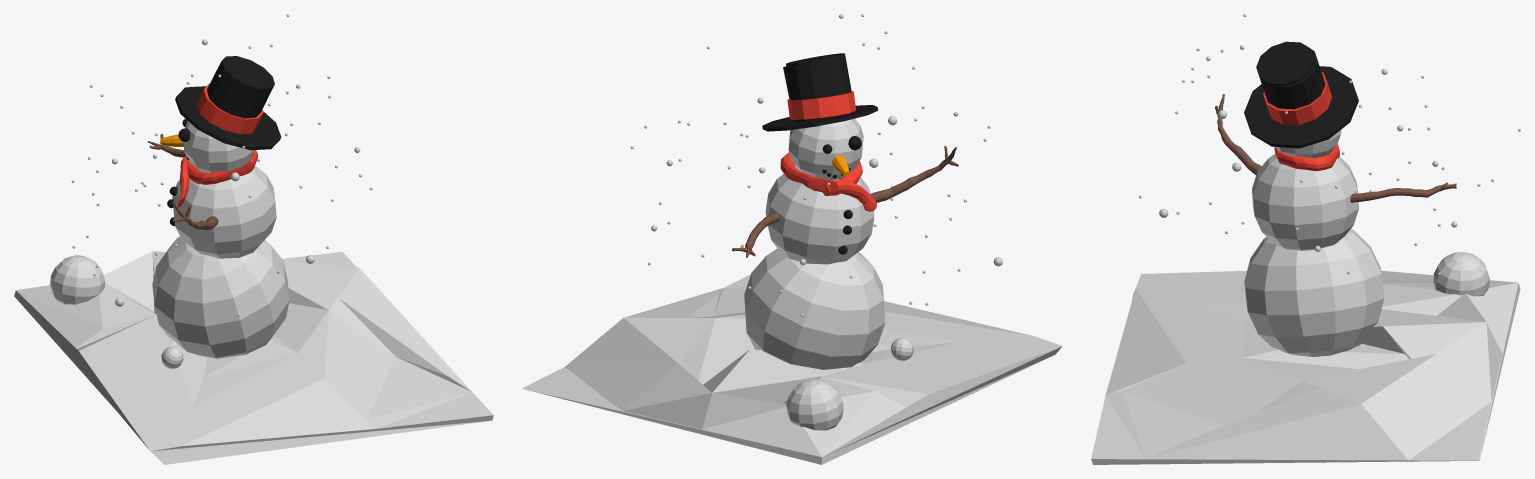
The model's file is Snowman Scene.glb.
3 renders of one model, left to right at view 1: azimuth 30°, elevation 25°; view 2: azimuth 150°, elevation 25°; view 3: azimuth 270°, elevation 25°, orthographic. The views are drawn at different scales.
Visible parts, largest first — view 1: group1273076652, group743139459, group1942126226; view 2: group1273076652, group743139459, group1942126226; view 3: group1273076652, group743139459, group1942126226.
Boxes of the visible parts, bbox=[...] form: group1273076652: bbox=[14, 251, 493, 464]; group743139459: bbox=[147, 56, 289, 358]; group1942126226: bbox=[50, 255, 105, 304]; group1273076652: bbox=[522, 274, 1062, 464]; group743139459: bbox=[732, 53, 958, 369]; group1942126226: bbox=[786, 379, 843, 430]; group1273076652: bbox=[1091, 270, 1520, 464]; group743139459: bbox=[1215, 41, 1456, 356]; group1942126226: bbox=[1433, 252, 1489, 296].
Bounding box in the file's own units: 2.74 × 2.5 × 2.78.
